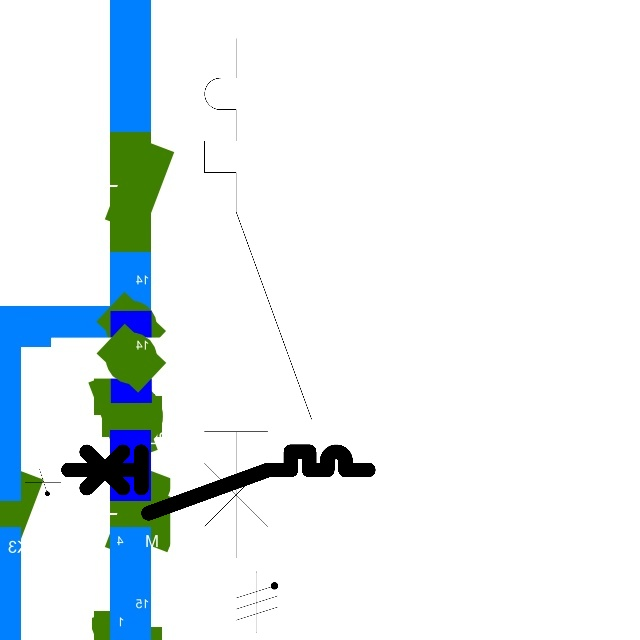interruptor_termomagnetico: (191, 25, 324, 571), (60, 444, 376, 521)
